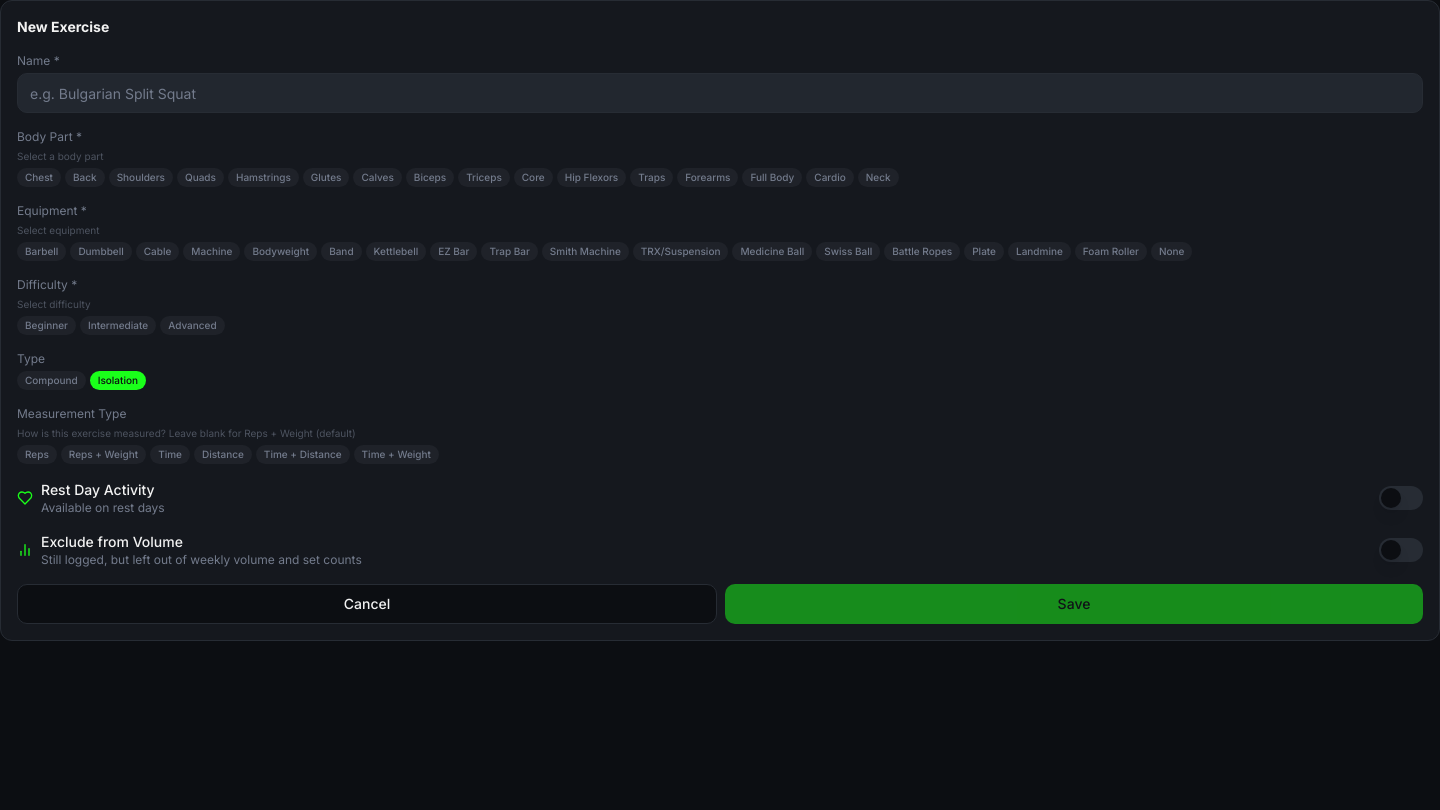
Scenario: CreateExerciseForm measurement type honesty › does not offer measurement chips for Band equipment and explains why
The image size is (1440, 810).
Expected: the button "Reps + Weight" is shown, [61,445,146,464]
Click the button "Band" at (341, 252), box [321,242,362,261]
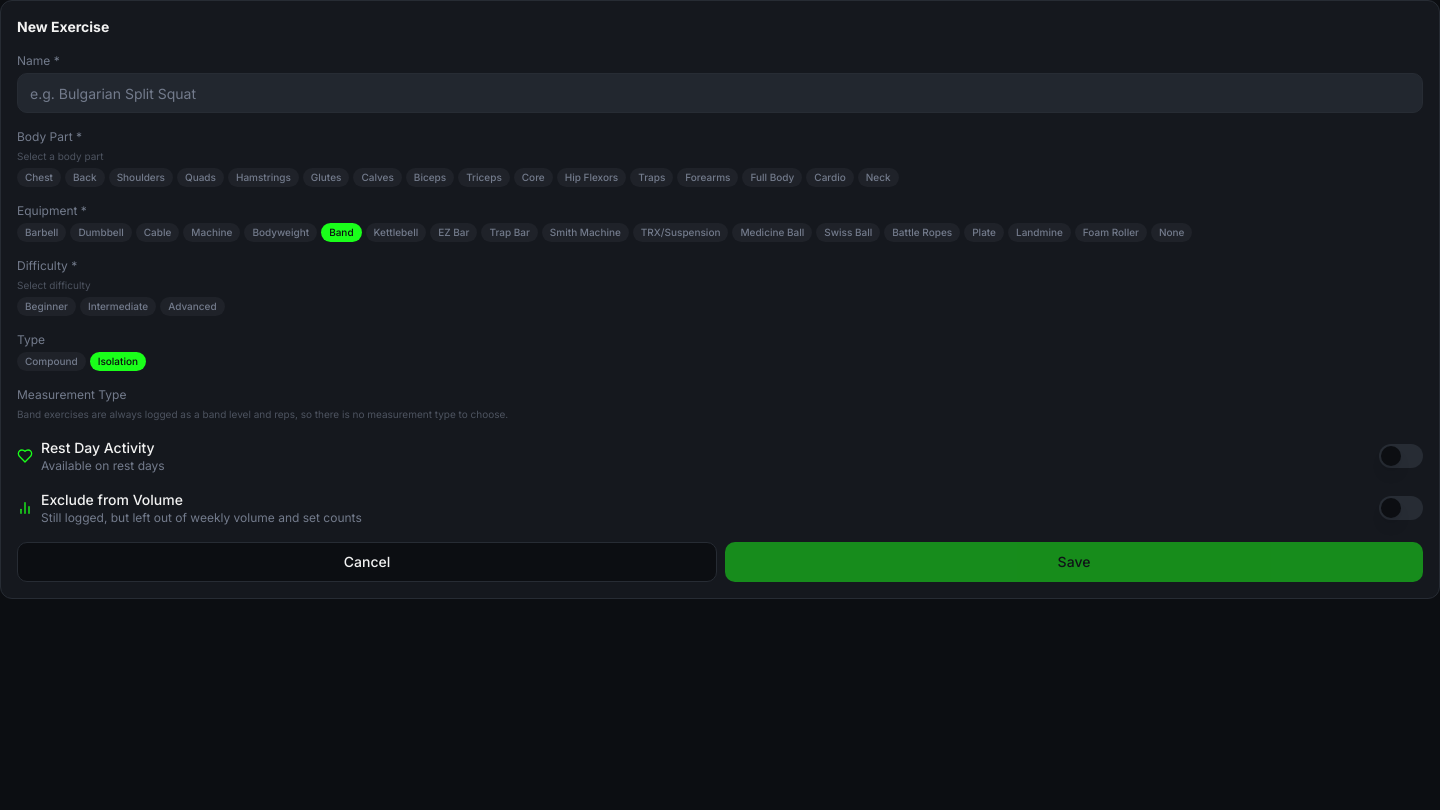
Expected: the text "Reps + Weight" is gone
Expected: the button "Time" is gone
Expected: the button "Distance" is gone
